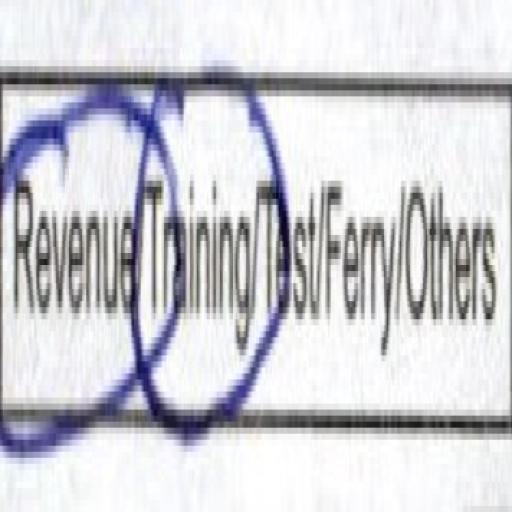check: (0, 18, 138, 506), (143, 0, 263, 509)
